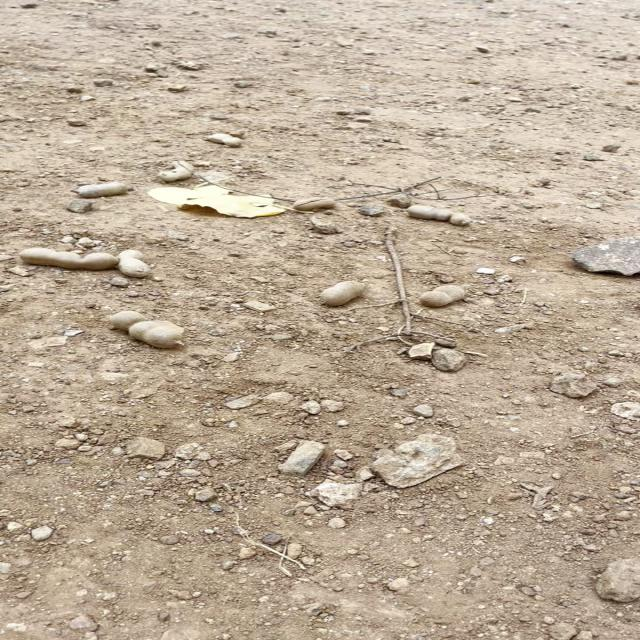tamarind: (101, 308, 187, 346), (15, 246, 117, 270), (401, 199, 472, 228), (314, 280, 362, 306), (417, 282, 463, 308), (70, 180, 132, 198), (115, 246, 151, 274), (152, 161, 196, 177), (204, 131, 246, 147)
